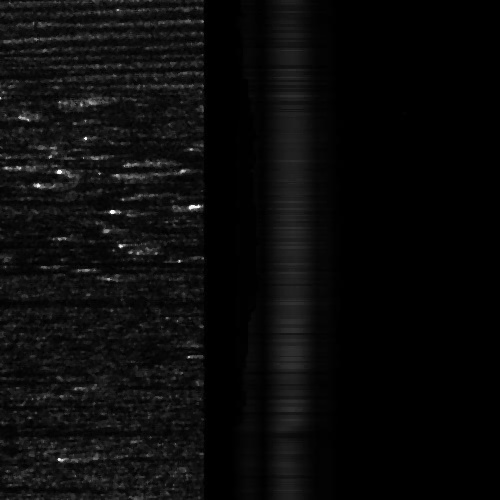object: (13, 107, 66, 120), (0, 197, 11, 206), (78, 455, 109, 458)
shadow: (0, 294, 198, 307), (0, 371, 152, 384), (0, 366, 111, 379), (0, 117, 131, 128), (0, 197, 142, 206), (39, 107, 133, 120), (0, 398, 89, 407), (0, 480, 54, 489), (94, 455, 193, 458)
